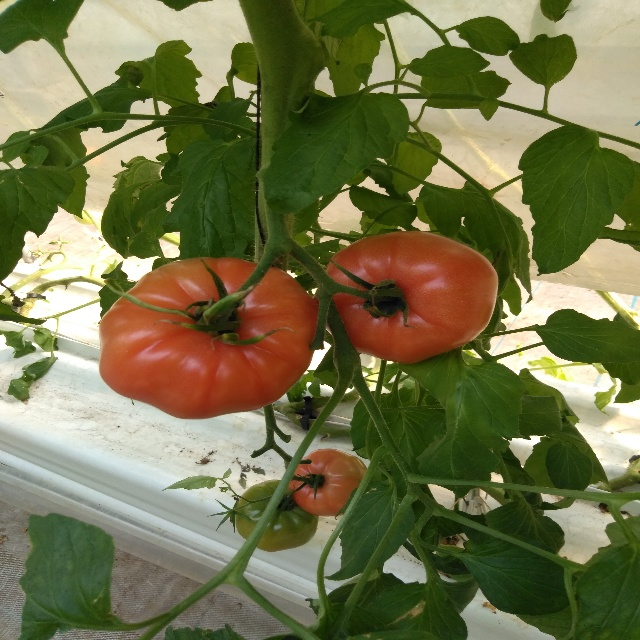b_fully_ripened: (98, 256, 319, 420), (313, 231, 498, 364)
b_green: (234, 479, 319, 552)
b_half_ripened: (288, 449, 368, 516)
